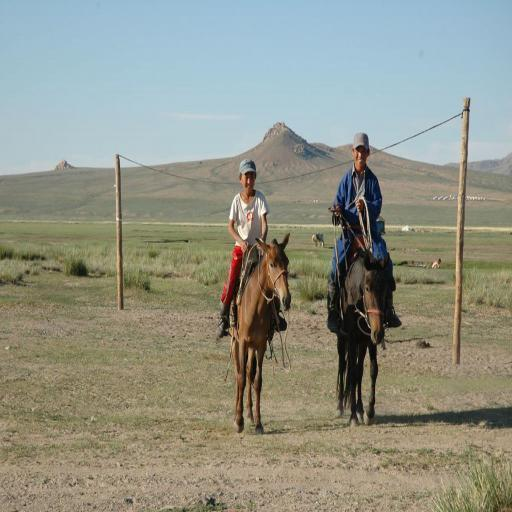horse: (229, 232, 292, 434), (334, 250, 390, 430)
